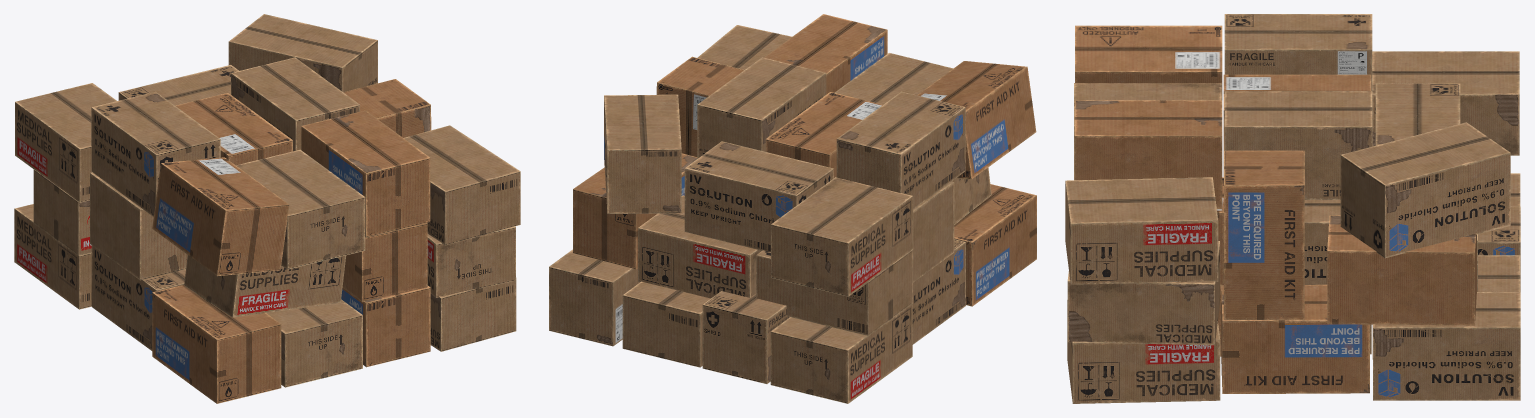
Rendered from HH_Stack_Boxes_01.fbx.
3 views of the same model, side by side, from view 1: azimuth 30°, elevation 25°; view 2: azimuth 150°, elevation 25°; view 3: azimuth 270°, elevation 25° (orthographic). The views are drawn at different scales.
Parts seen in each view (by area): view 1: HH_Stack_Boxes_01; view 2: HH_Stack_Boxes_01; view 3: HH_Stack_Boxes_01.
Part boxes in pixels (x1,y1,x2,y2): HH_Stack_Boxes_01: (14,14,520,403); HH_Stack_Boxes_01: (549,14,1036,403); HH_Stack_Boxes_01: (1065,14,1520,403).
Size of the model in its own units: 196 by 121 by 220.
